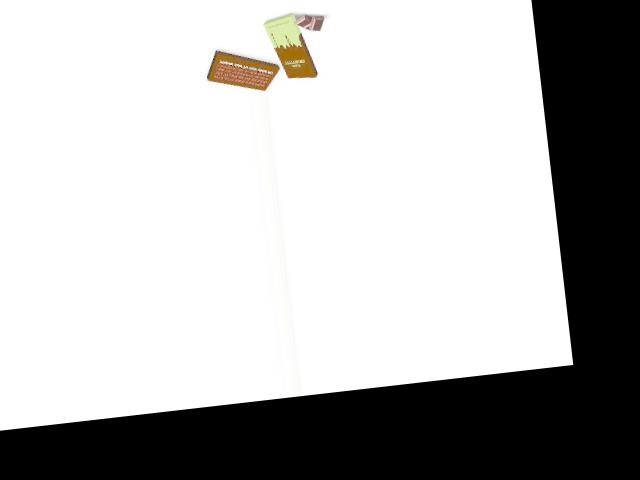chocolate: (265, 9, 313, 83)
